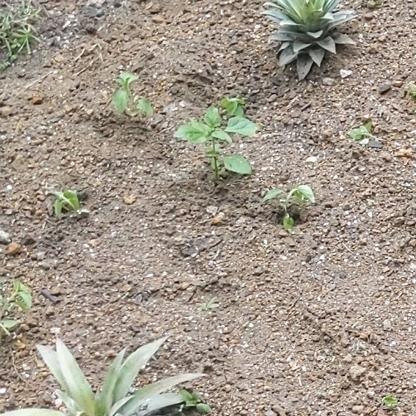pineapple: (39, 334, 209, 416), (260, 1, 359, 82)
weed: (176, 99, 258, 187), (108, 67, 156, 127), (260, 184, 314, 232), (41, 187, 85, 219)
